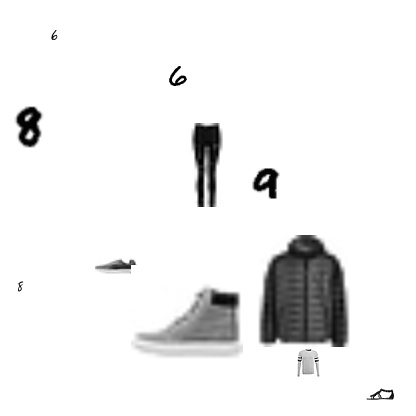6: (163, 64, 191, 92), (47, 29, 61, 43)
8: (1, 97, 57, 153), (13, 279, 27, 293)
9: (245, 161, 287, 203)
Coat: (248, 235, 360, 347)
Pullover: (294, 349, 322, 377)
Sandal: (366, 380, 394, 408)
Sneaker: (131, 265, 243, 377), (95, 245, 137, 287)
Trouser: (165, 123, 249, 207)
